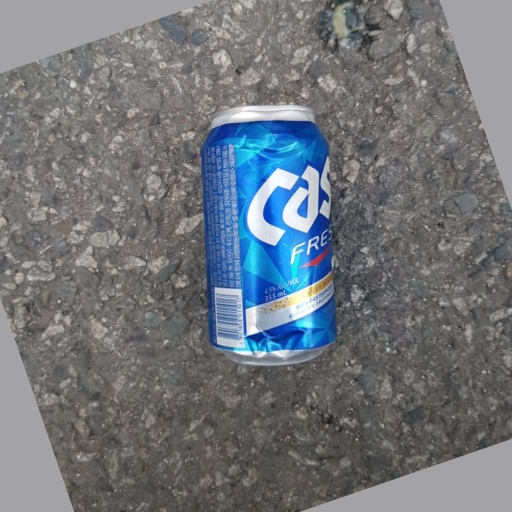Metal_0: (198, 101, 340, 371)
